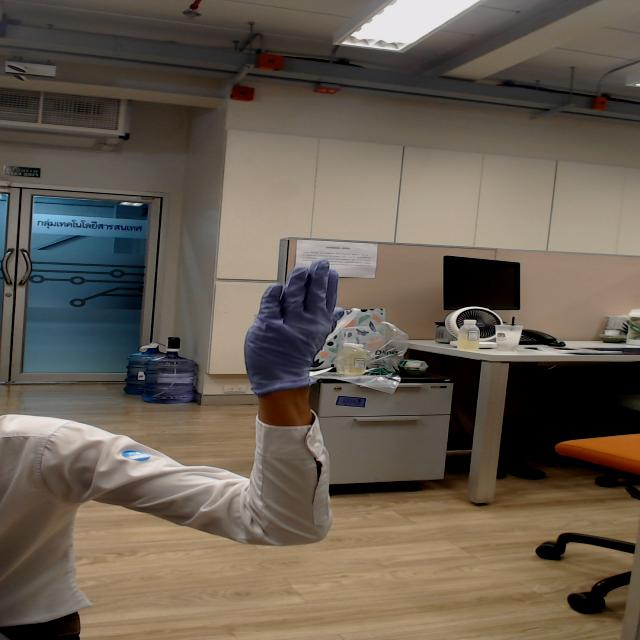glove: (189, 254, 387, 374)
